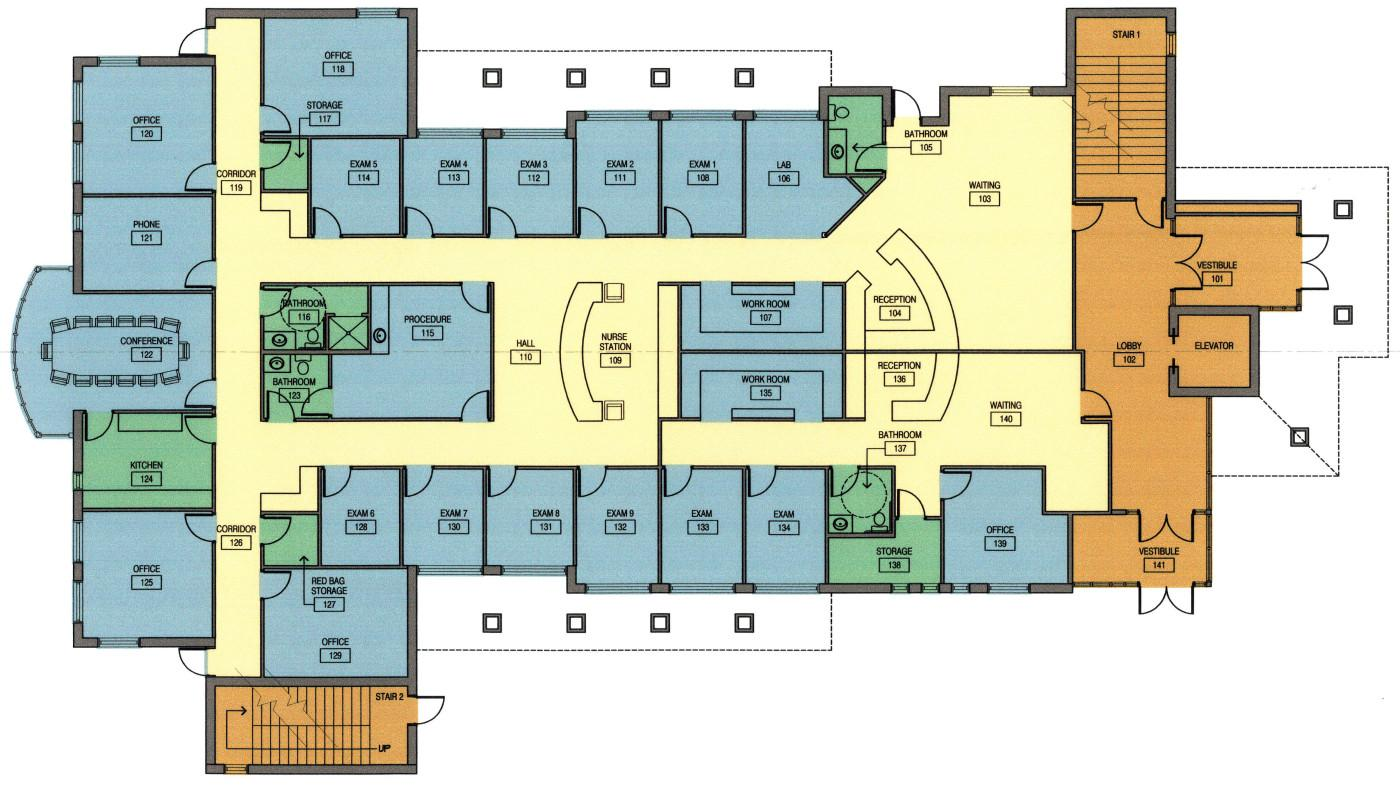room: (11, 268, 215, 435), (331, 286, 492, 421), (77, 508, 214, 642), (77, 61, 214, 194), (262, 15, 411, 137), (262, 568, 410, 680), (942, 467, 1071, 588), (77, 411, 215, 508), (76, 195, 214, 291), (679, 284, 844, 351), (680, 352, 844, 419), (574, 468, 660, 588), (660, 468, 745, 589), (574, 117, 660, 235), (743, 114, 826, 236), (744, 467, 827, 589), (660, 116, 743, 236), (485, 132, 574, 236), (309, 137, 401, 236), (485, 467, 574, 567), (400, 132, 484, 236), (318, 466, 401, 567), (402, 467, 484, 568), (827, 517, 942, 588), (260, 286, 370, 350), (825, 92, 885, 174), (261, 351, 331, 420), (827, 468, 892, 534), (262, 513, 319, 566)
